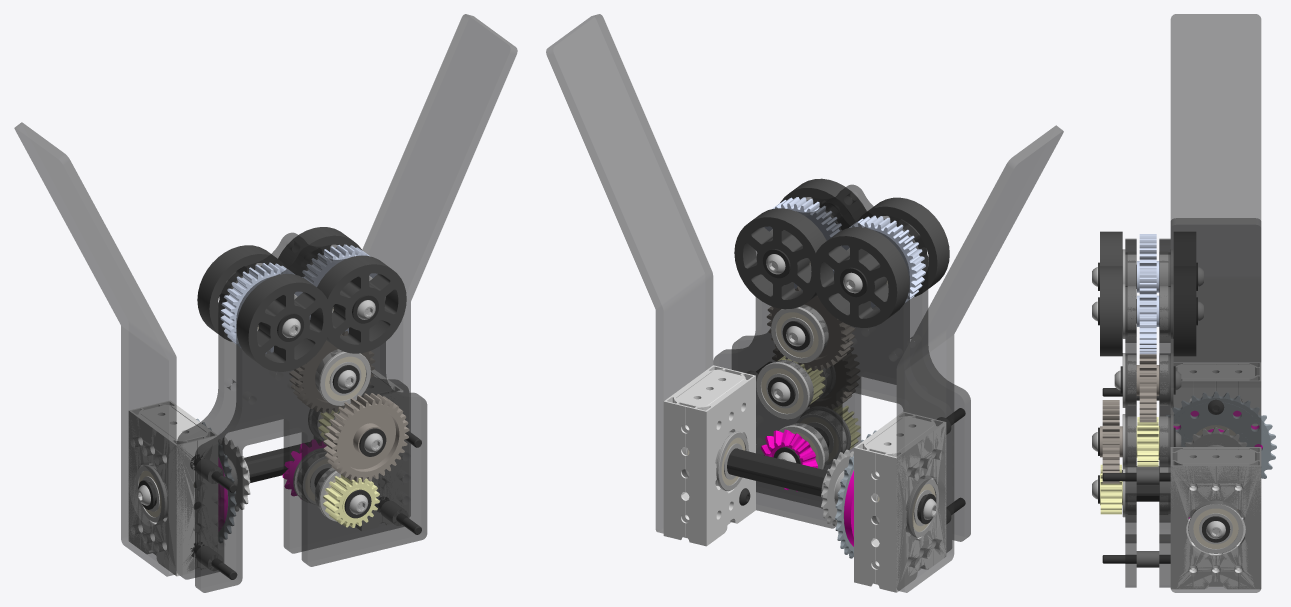
3 views of the same model, side by side, from view 1: azimuth 30°, elevation 25°; view 2: azimuth 150°, elevation 25°; view 3: azimuth 270°, elevation 25° (orthographic). The views are drawn at different scales.
Visible parts, largest first — view 1: Side Panel (×2), Funnel - Sides (×2), 2" OD 30A Thrifty Squish Wheel (TTB-0032) (×4), MAXTube, 1x1x47" (×2), am-3486 35T 20DP 500hex 375 FW (×2), Flanged Bearing for 1/2in Rounded Hex (REV-21-1916) (×3), 36t 20dp Aluminum 1/2" Hex Bore Gear (217-3214) (×2), Shaft (×2), 20t 20dp Aluminum 1/2" Hex Bore Gear (217-2702), 2" x 1" Tube Plug 0.125" Wall, #10-32 Tapped (WCP-0374), am-4775 18T 25 Chain 500in Hex Symmetrical, am-4781 32T 25 Chain 1125in Plate; view 2: Funnel - Sides (×2), Side Panel (×2), MAXTube, 1x1x47" (×2), 2" OD 30A Thrifty Squish Wheel (TTB-0032) (×4), Flanged Bearing for 1/2in Rounded Hex (REV-21-1916) (×6), Shaft, 36t 20dp Aluminum 1/2" Hex Bore Gear (217-3214) (×2), am-3486 35T 20DP 500hex 375 FW (×2), 2" x 1" Tube Plug 0.125" Wall, #10-32 Tapped (WCP-0374) (×2), am-4775 18T 25 Chain 500in Hex Symmetrical, 15t 12dp Steel 1/2" Hex Bore Bevel Gear (217-5907), am-4781 32T 25 Chain 1125in Plate; view 3: Funnel - Sides (×2), MAXTube, 1x1x47" (×2), Flanged Bearing for 1/2in Rounded Hex (REV-21-1916) (×11), Side Panel (×2), 2" OD 30A Thrifty Squish Wheel (TTB-0032) (×4), am-4781 32T 25 Chain 1125in Plate, am-3486 35T 20DP 500hex 375 FW (×2), 36t 20dp Aluminum 1/2" Hex Bore Gear (217-3214) (×2), Shaft (×6), 2" x 1" Tube Plug 0.125" Wall, #10-32 Tapped (WCP-0374) (×2), 20t 20dp Aluminum 1/2" Hex Bore Gear (217-2702) (×2), Spacer (Configurable) (×2) (+2 smaller).
Part boxes in pixels (x1=…): Side Panel (×2): x1=176, y1=232, x2=427, y2=592; Funnel - Sides (×2): x1=14, y1=14, x2=517, y2=576; 2" OD 30A Thrifty Squish Wheel (TTB-0032) (×4): x1=197, y1=227, x2=406, y2=371; MAXTube, 1x1x47" (×2): x1=128, y1=369, x2=403, y2=576; am-3486 35T 20DP 500hex 375 FW (×2): x1=289, y1=331, x2=409, y2=481; Flanged Bearing for 1/2in Rounded Hex (REV-21-1916) (×3): x1=135, y1=349, x2=370, y2=522; 36t 20dp Aluminum 1/2" Hex Bore Gear (217-3214) (×2): x1=220, y1=244, x2=376, y2=353; Shaft (×2): x1=137, y1=440, x2=371, y2=518; 20t 20dp Aluminum 1/2" Hex Bore Gear (217-2702): x1=323, y1=474, x2=379, y2=527; 2" x 1" Tube Plug 0.125" Wall, #10-32 Tapped (WCP-0374): x1=140, y1=405, x2=207, y2=443; am-4775 18T 25 Chain 500in Hex Symmetrical: x1=219, y1=437, x2=250, y2=511; am-4781 32T 25 Chain 1125in Plate: x1=196, y1=418, x2=236, y2=542; Funnel - Sides (×2): x1=546, y1=14, x2=1063, y2=592; Side Panel (×2): x1=713, y1=184, x2=970, y2=552; MAXTube, 1x1x47" (×2): x1=663, y1=365, x2=946, y2=592; 2" OD 30A Thrifty Squish Wheel (TTB-0032) (×4): x1=734, y1=178, x2=949, y2=327; Flanged Bearing for 1/2in Rounded Hex (REV-21-1916) (×6): x1=715, y1=305, x2=938, y2=537; Shaft: x1=727, y1=448, x2=937, y2=524; 36t 20dp Aluminum 1/2" Hex Bore Gear (217-3214) (×2): x1=764, y1=197, x2=925, y2=308; am-3486 35T 20DP 500hex 375 FW (×2): x1=767, y1=286, x2=859, y2=409; 2" x 1" Tube Plug 0.125" Wall, #10-32 Tapped (WCP-0374) (×2): x1=674, y1=370, x2=934, y2=479; am-4775 18T 25 Chain 500in Hex Symmetrical: x1=821, y1=449, x2=853, y2=525; 15t 12dp Steel 1/2" Hex Bore Bevel Gear (217-5907): x1=761, y1=429, x2=817, y2=491; am-4781 32T 25 Chain 1125in Plate: x1=835, y1=430, x2=876, y2=558; Funnel - Sides (×2): x1=1170, y1=14, x2=1261, y2=592; MAXTube, 1x1x47" (×2): x1=1170, y1=362, x2=1261, y2=589; Flanged Bearing for 1/2in Rounded Hex (REV-21-1916) (×11): x1=1122, y1=249, x2=1243, y2=553; Side Panel (×2): x1=1125, y1=238, x2=1170, y2=587; 2" OD 30A Thrifty Squish Wheel (TTB-0032) (×4): x1=1100, y1=231, x2=1196, y2=356; am-4781 32T 25 Chain 1125in Plate: x1=1158, y1=391, x2=1276, y2=478; am-3486 35T 20DP 500hex 375 FW (×2): x1=1100, y1=354, x2=1159, y2=483; 36t 20dp Aluminum 1/2" Hex Bore Gear (217-3214) (×2): x1=1137, y1=234, x2=1159, y2=354; Shaft (×6): x1=1092, y1=262, x2=1230, y2=542; 2" x 1" Tube Plug 0.125" Wall, #10-32 Tapped (WCP-0374) (×2): x1=1176, y1=365, x2=1255, y2=488; 20t 20dp Aluminum 1/2" Hex Bore Gear (217-2702) (×2): x1=1100, y1=417, x2=1159, y2=514; Spacer (Configurable) (×2): x1=1136, y1=468, x2=1159, y2=567.
Size of the model in its own units: 0.2794 by 0.2607 by 0.1037.
